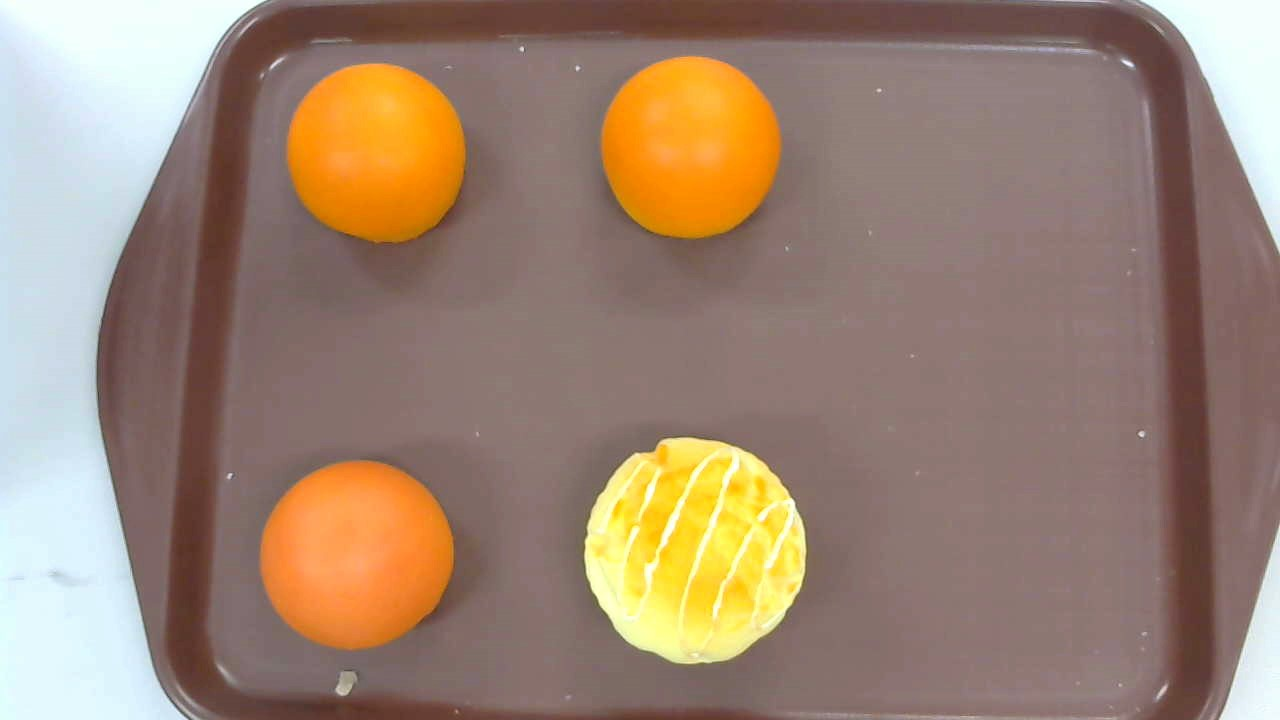bun: (258, 459, 454, 650), (599, 57, 780, 239), (286, 64, 465, 245)
cupcake: (585, 436, 805, 664)
